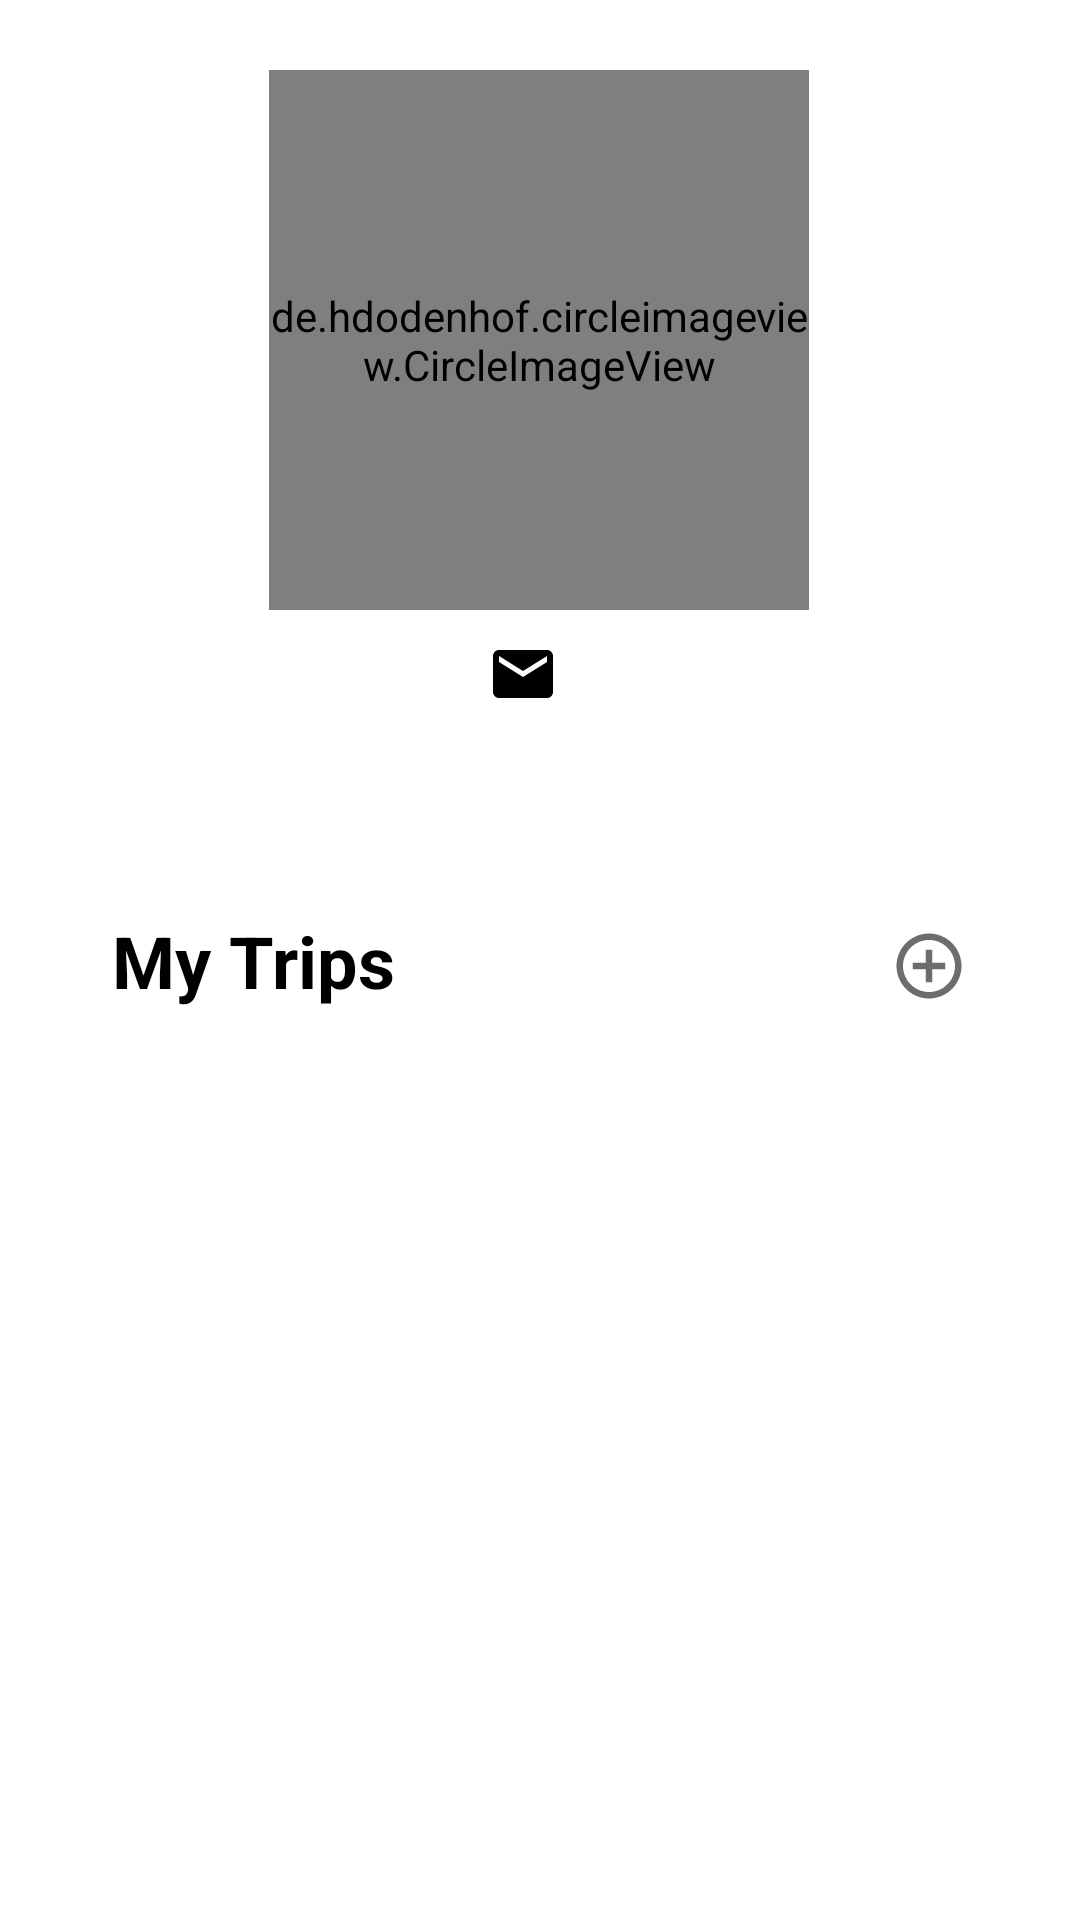

Icons on this 1080w x 1920h Android screen, each with the point to tap as (x=x, y=y):
Plus Sign icon: (x=929, y=966)
